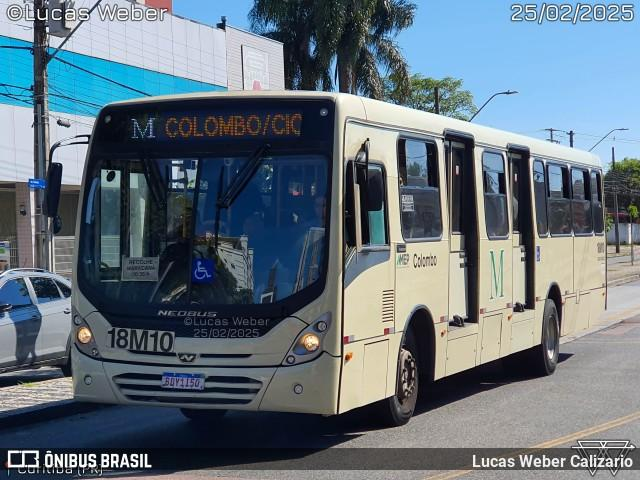COLOMBO CIC: (162, 111, 308, 141)
